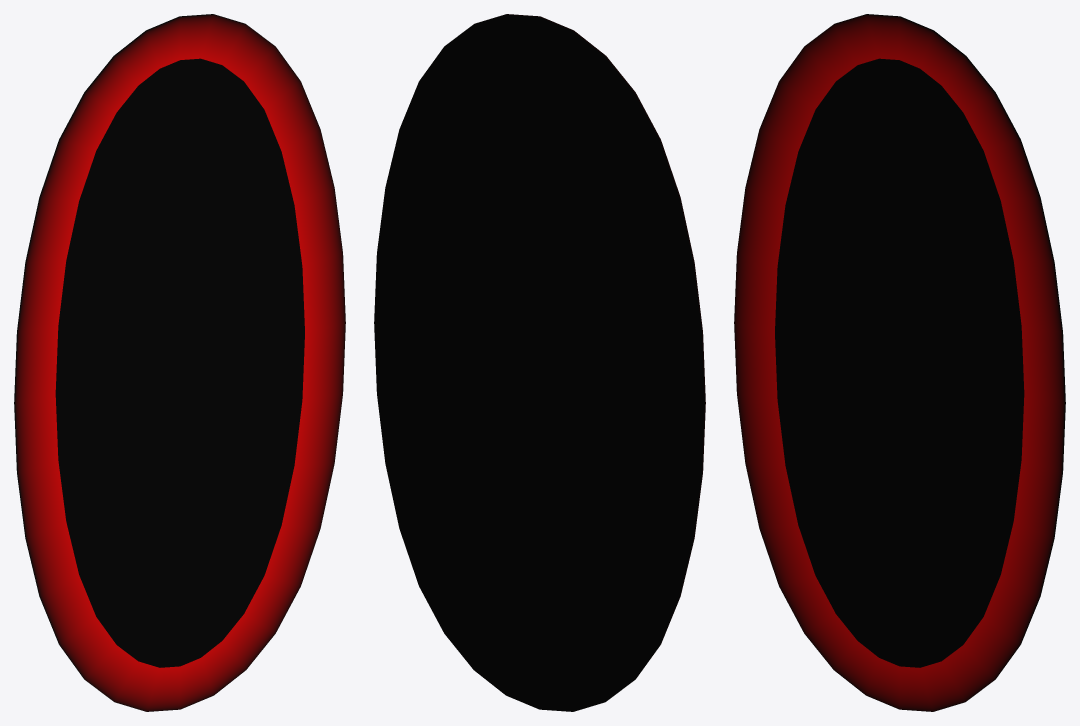
File: Portal.fbx
3 views of the same model, side by side, from view 1: azimuth 30°, elevation 25°; view 2: azimuth 150°, elevation 25°; view 3: azimuth 330°, elevation 25° (orthographic).
Visible parts, largest first — view 1: Border; view 2: Border; view 3: Border.
Part boxes in pixels (<box>): Border: <box>14,14,345,711</box>; Border: <box>374,14,705,711</box>; Border: <box>734,14,1065,711</box>.
Size of the model in its own units: 97.81 by 196 by 0.4.
